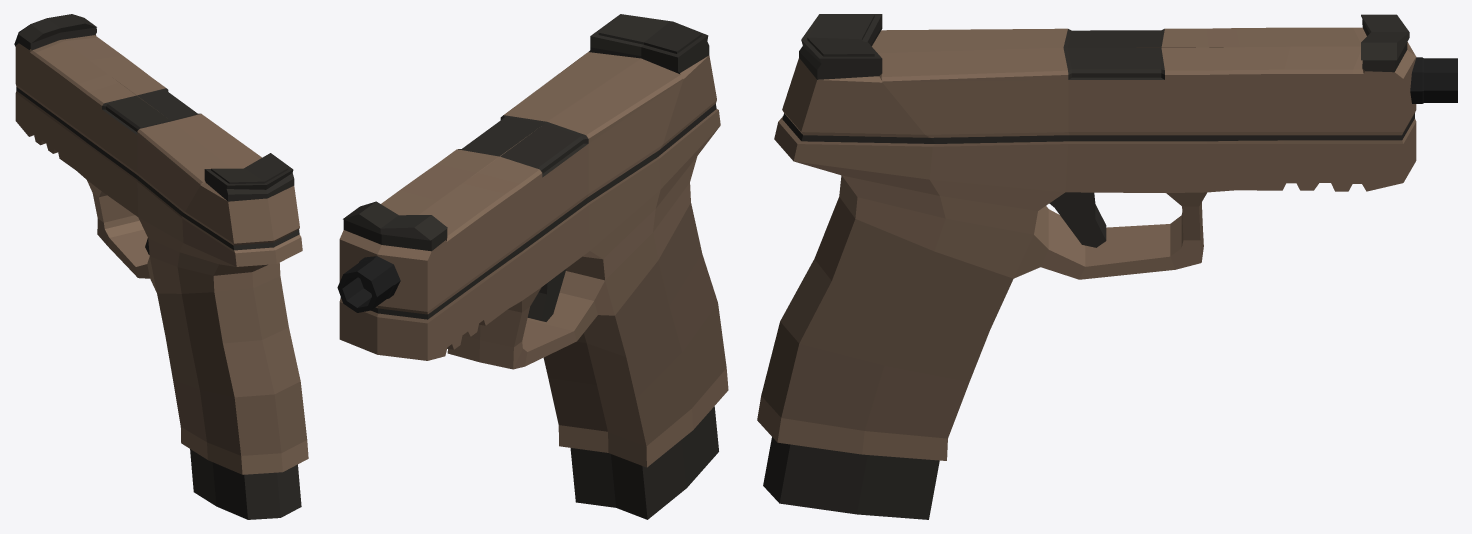
The model's file is Basic Gun.fbx.
3 views of the same model, side by side, from view 1: azimuth 30°, elevation 25°; view 2: azimuth 150°, elevation 25°; view 3: azimuth 270°, elevation 25° (orthographic). The views are drawn at different scales.
Visible parts, largest first — view 1: Cube; view 2: Cube, Cylinder; view 3: Cube, Cylinder.
Boxes of the visible parts, x1=… form: Cube: x1=15, y1=14, x2=308, y2=519; Cube: x1=339, y1=14, x2=728, y2=519; Cylinder: x1=337, y1=256, x2=400, y2=312; Cube: x1=757, y1=14, x2=1416, y2=519; Cylinder: x1=1410, y1=57, x2=1457, y2=103.
Size of the model in its own units: 79.42 by 351 by 471.
